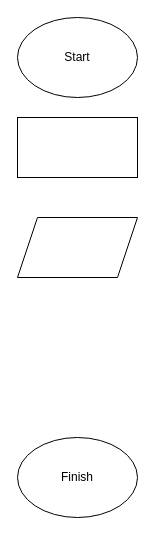
Some shapes in this 155 by 535 pixel diagram are drawn without their labels. The centre of each missing label's shape, as x and y in pixels:
i = 0: the point at 77,147
words_array: the point at 77,247
